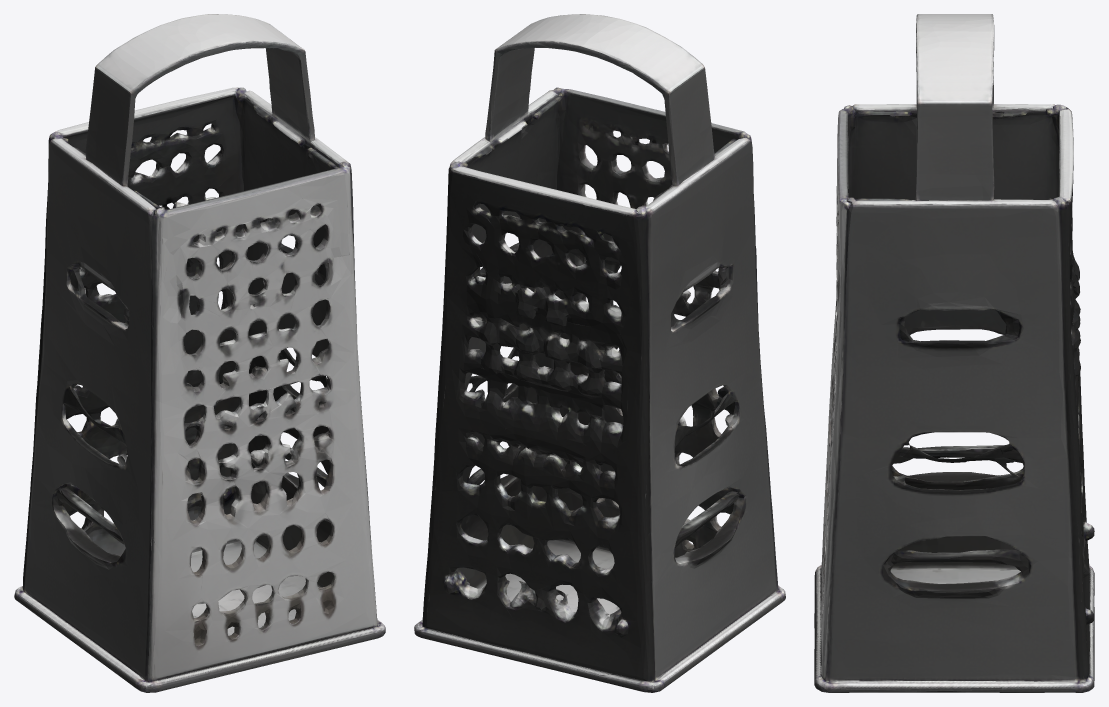
The model's file is BoxGrater.glb.
The picture shows the model from 3 angles, left to right: view 1: azimuth 30°, elevation 25°; view 2: azimuth 150°, elevation 25°; view 3: azimuth 270°, elevation 25°; orthographic projection. The views are drawn at different scales.
Parts seen in each view (by area): view 1: world; view 2: world; view 3: world.
Boxes of the visible parts, <box> form: world: <box>14,14,385,692</box>; world: <box>414,14,785,692</box>; world: <box>814,14,1094,692</box>.
Size of the model in its own units: 0.4416 by 0.9996 by 0.4228.
Materials: 1 (1 with a texture image).
